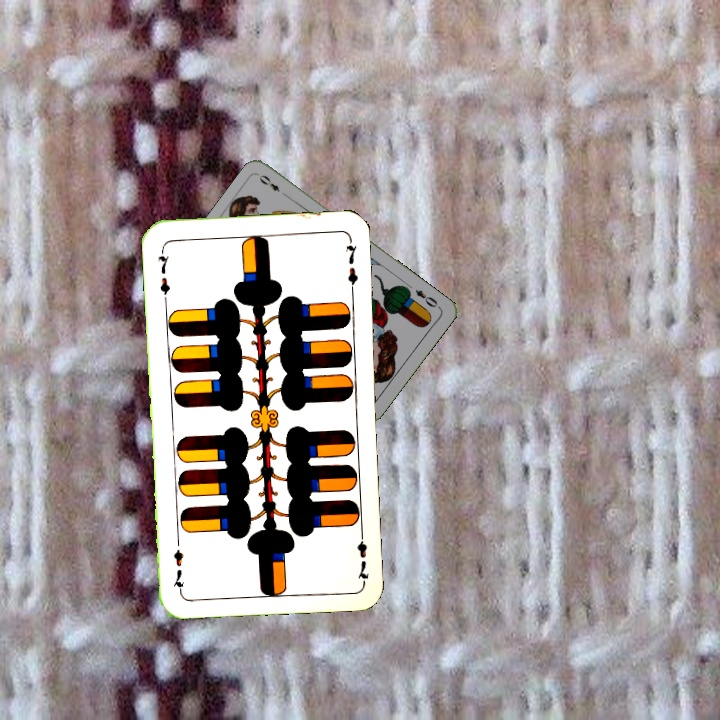E7: (153, 244, 172, 303), (353, 525, 371, 584)
EO: (411, 285, 443, 311)
